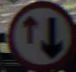Two way: (9, 10, 65, 59)
